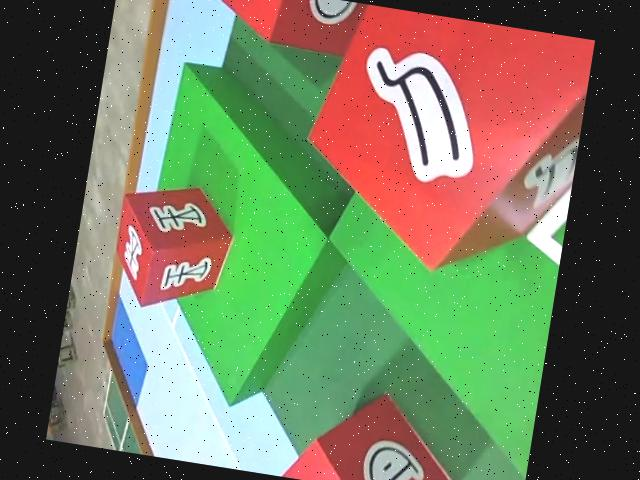R2 Real: (289, 0, 594, 287), (106, 175, 242, 317), (279, 382, 467, 480), (212, 0, 397, 62)
